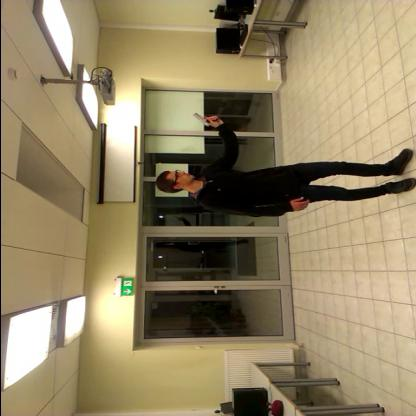Pistol: (186, 108, 222, 138)
